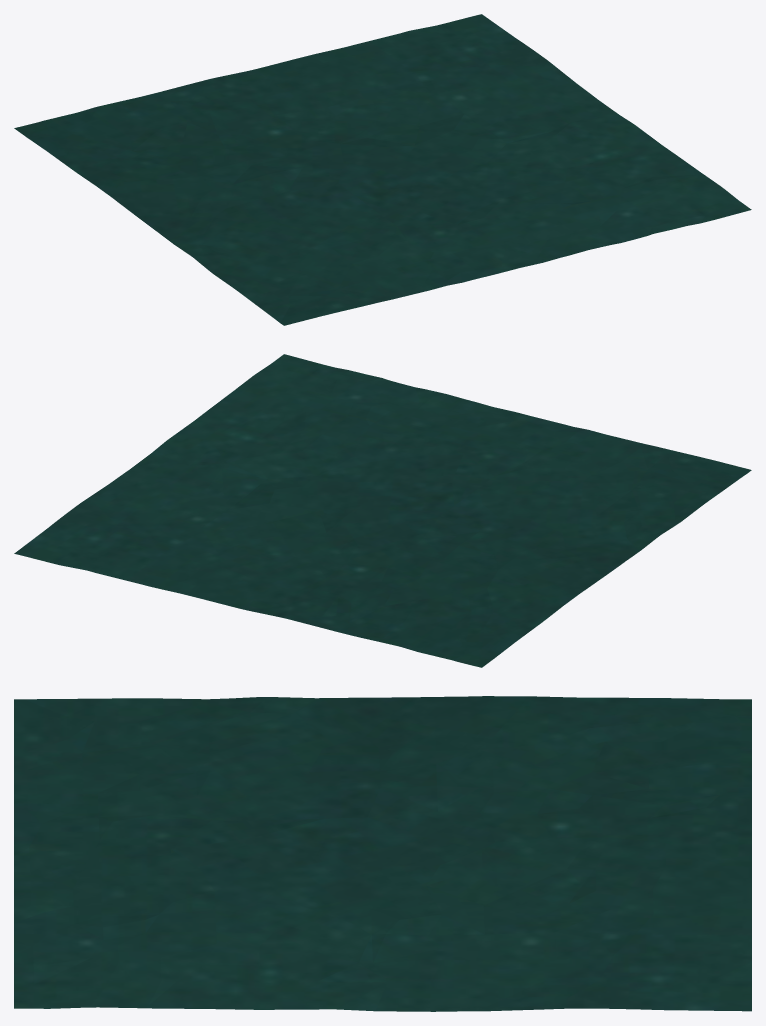
3 renders of one model, top to bottom at view 1: azimuth 30°, elevation 25°; view 2: azimuth 150°, elevation 25°; view 3: azimuth 270°, elevation 25°, orthographic. The views are drawn at different scales.
Bounding box in the file's own units: 52.22 × 0.55 × 52.22.
2 materials, 2 textured.
